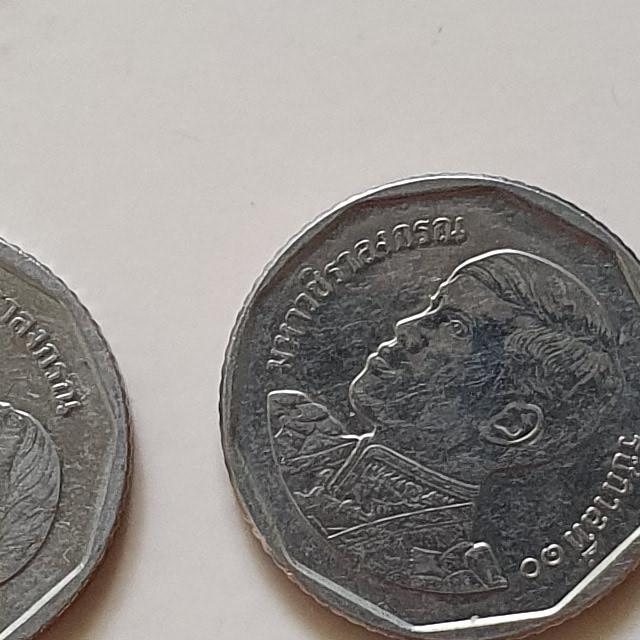5 Bath: (214, 165, 640, 640), (1, 228, 143, 640)
